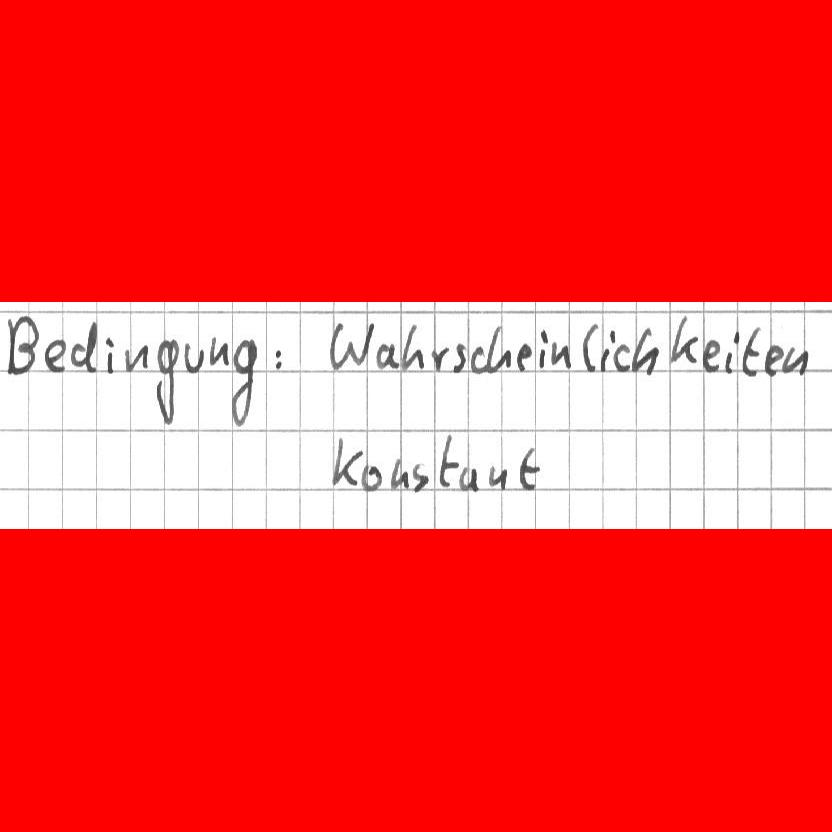Char: (325, 316, 375, 374), (151, 337, 180, 429), (4, 310, 42, 379), (230, 338, 257, 429), (627, 326, 662, 379), (330, 434, 362, 489), (70, 319, 100, 374), (671, 313, 700, 366), (435, 433, 460, 491), (484, 324, 511, 375), (401, 322, 427, 373), (516, 445, 542, 492), (741, 323, 762, 381), (387, 454, 412, 495), (120, 338, 149, 373), (700, 336, 725, 375), (408, 458, 433, 497), (781, 342, 808, 378), (43, 335, 67, 374), (357, 462, 386, 493), (454, 463, 483, 494), (722, 329, 741, 375), (583, 321, 600, 372), (375, 341, 401, 372), (183, 340, 206, 375), (763, 342, 784, 379), (486, 461, 510, 492), (209, 333, 229, 368), (610, 341, 631, 372), (104, 333, 119, 375), (429, 344, 450, 374), (600, 328, 614, 371), (536, 327, 549, 372), (452, 341, 468, 376), (551, 340, 571, 368), (469, 342, 486, 374), (515, 340, 532, 372), (273, 346, 285, 371)
